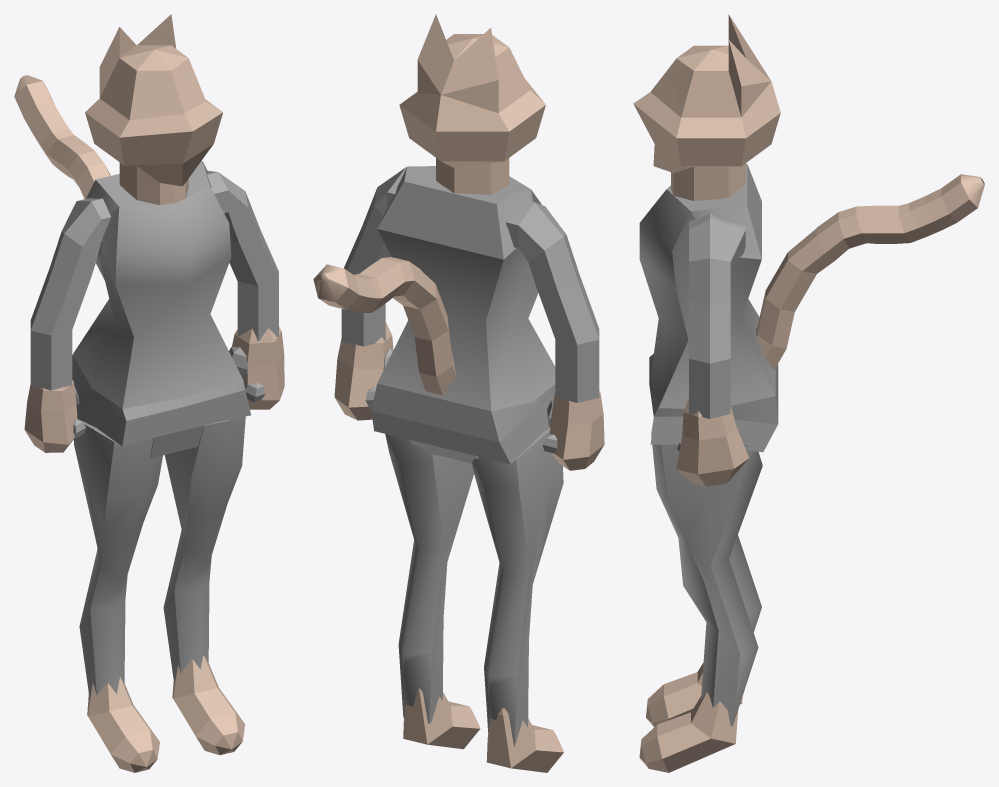
Rendered from Enemy_CatPatrol_001.fbx.
The picture shows the model from 3 angles, left to right: view 1: azimuth 30°, elevation 25°; view 2: azimuth 150°, elevation 25°; view 3: azimuth 270°, elevation 25°; orthographic projection. The views are drawn at different scales.
Parts seen in each view (by area): view 1: polySurface28; view 2: polySurface28; view 3: polySurface28.
Part boxes in pixels (x1,y1,x2,y2): polySurface28: (14, 14, 284, 772); polySurface28: (313, 14, 604, 772); polySurface28: (633, 14, 984, 772).
Size of the model in its own units: 0.654 by 1.82 by 0.8067.
